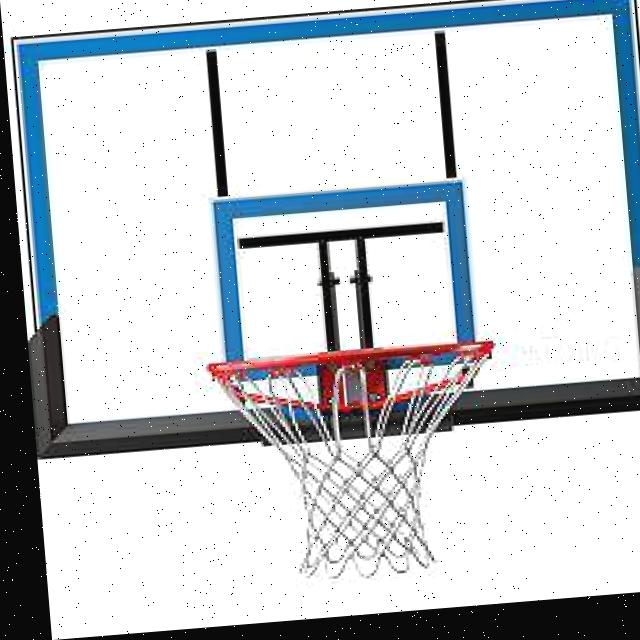hoop: (206, 338, 515, 590)
